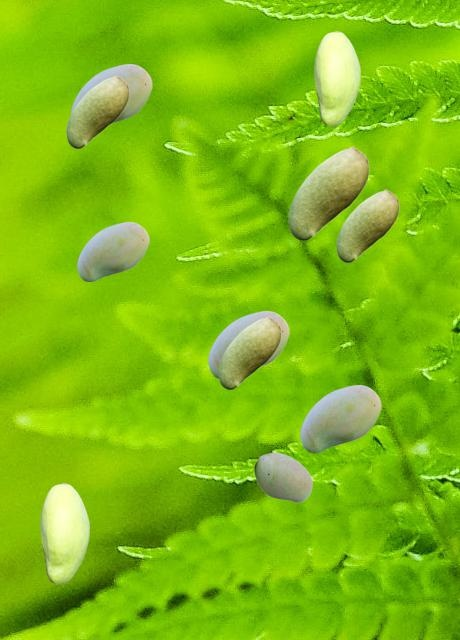green_mango: (288, 146, 368, 239), (208, 311, 288, 377), (300, 385, 380, 451), (40, 483, 88, 583), (71, 64, 151, 122), (66, 75, 128, 147), (218, 316, 280, 388), (336, 189, 398, 261), (314, 31, 359, 125), (77, 222, 148, 280), (254, 452, 311, 501)
